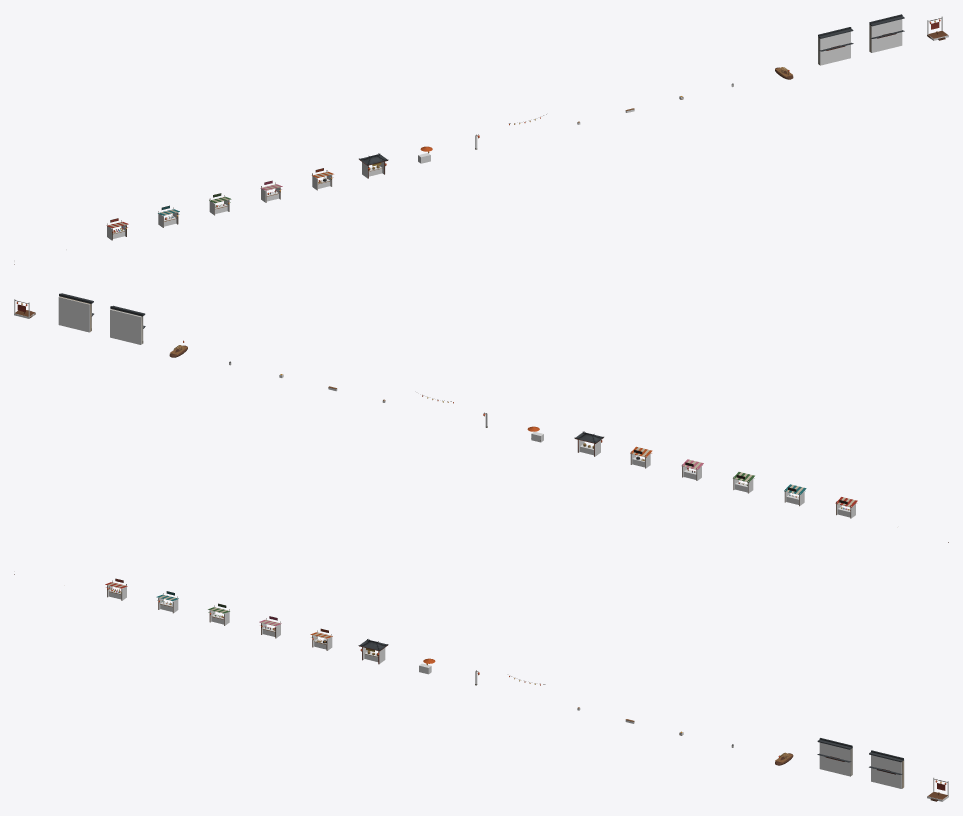
The model's file is market_kit.glb.
3 views of the same model, one above another, from view 1: azimuth 30°, elevation 25°; view 2: azimuth 150°, elevation 25°; view 3: azimuth 330°, elevation 25° (orthographic).
Visible parts, largest first — view 1: COL_facade_b, COL_facade_a; view 2: COL_facade_a, COL_facade_b; view 3: COL_facade_a, COL_facade_b.
Boxes of the visible parts, x1,y1,x2,y2 form: COL_facade_b: (869, 19, 902, 52); COL_facade_a: (818, 31, 850, 65); COL_facade_a: (110, 309, 143, 344); COL_facade_b: (58, 297, 91, 332); COL_facade_a: (819, 742, 852, 776); COL_facade_b: (871, 755, 904, 788).
Size of the model in its own units: 182 by 6.07 by 5.04.
